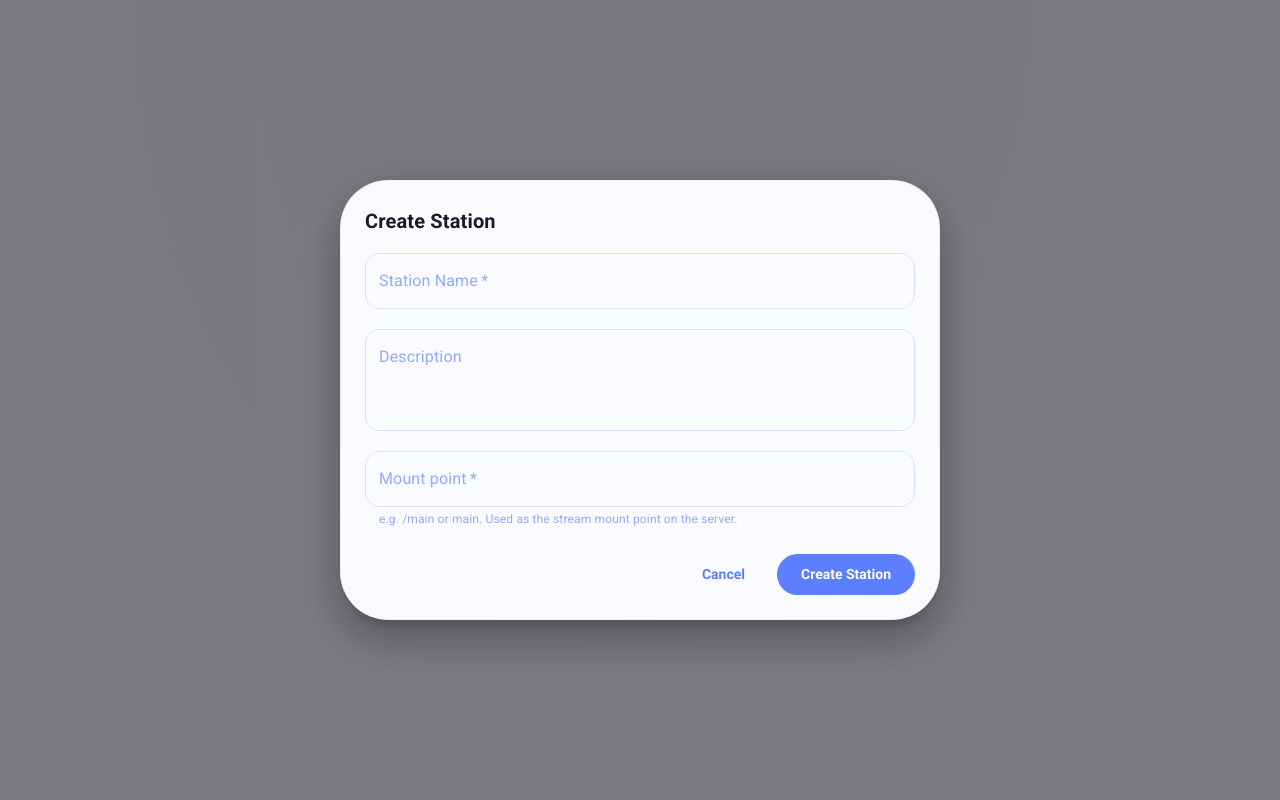
Test: CreateStationDialog › shows error message on submission failure
The width and height of the screenshot is (1280, 800).
Type "Duplicate" into the field labelled "Station Name *" at (640, 281), box [365,253,915,309]
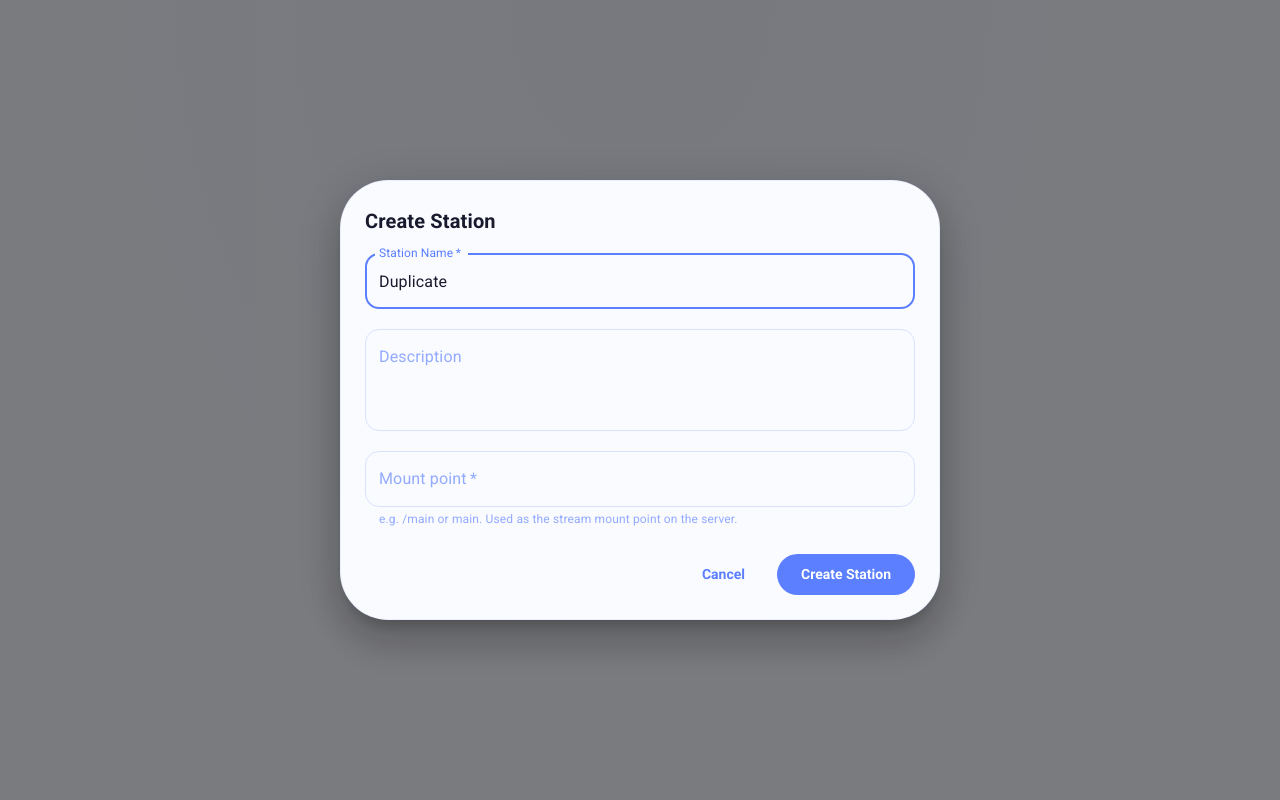
Type "live" into the field labelled "Mount point *" at (640, 479), box [365,451,915,507]
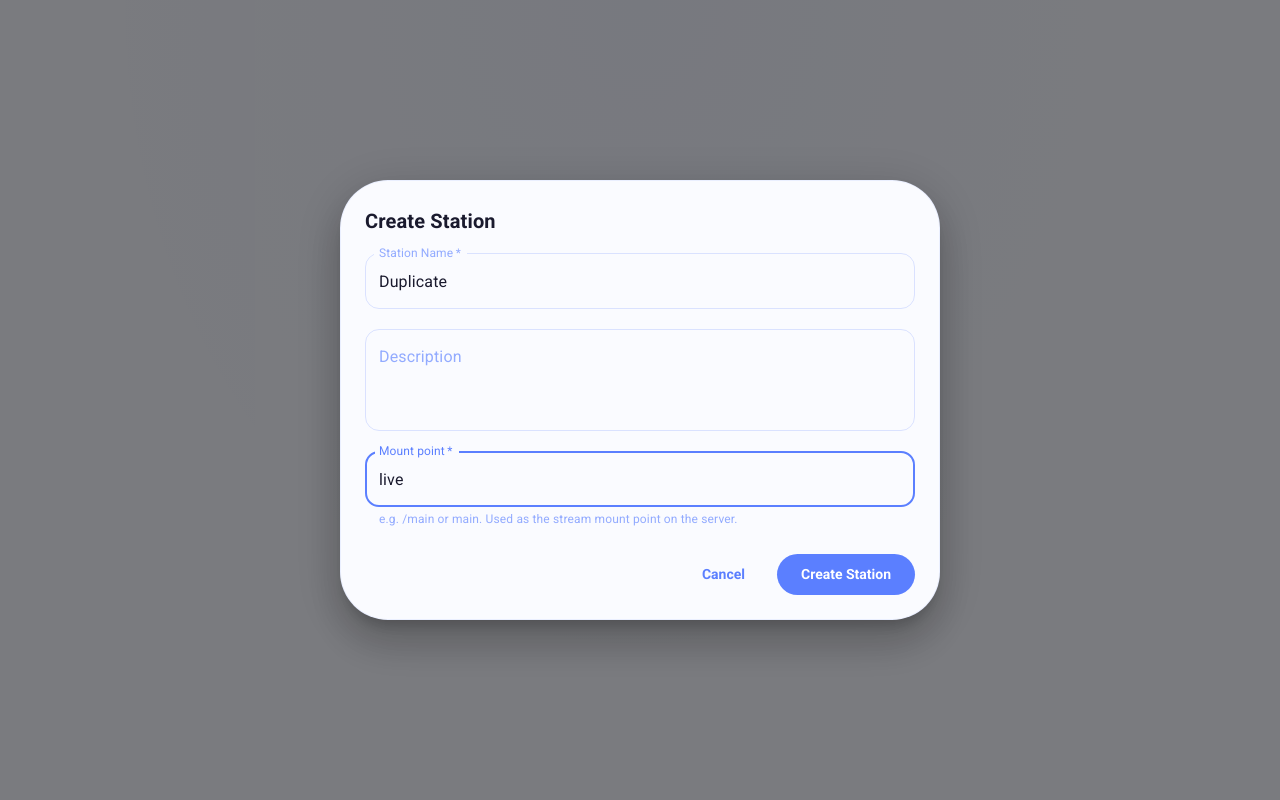
Click the button "Create Station" at (846, 574), box [777,554,915,595]
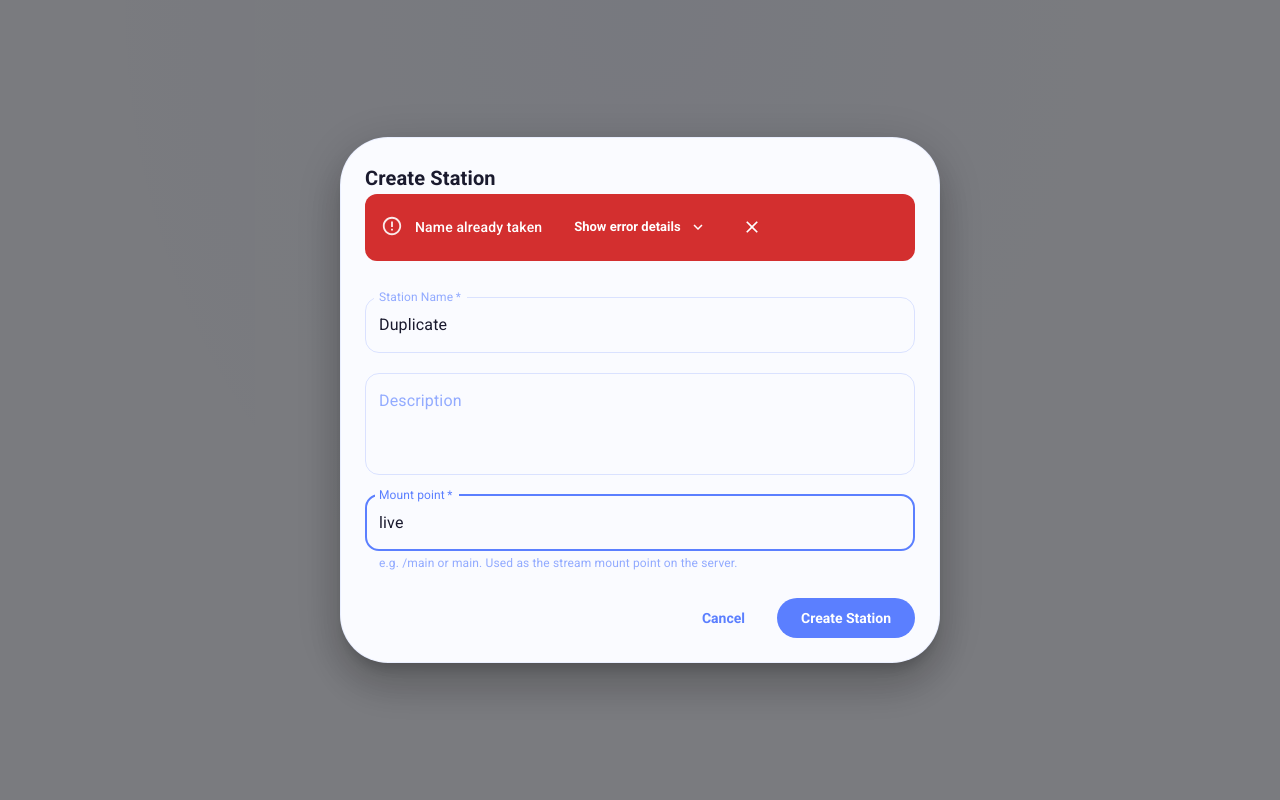
expect the message "Name already taken Show error details" is shown: met, box [365,194,915,261]
